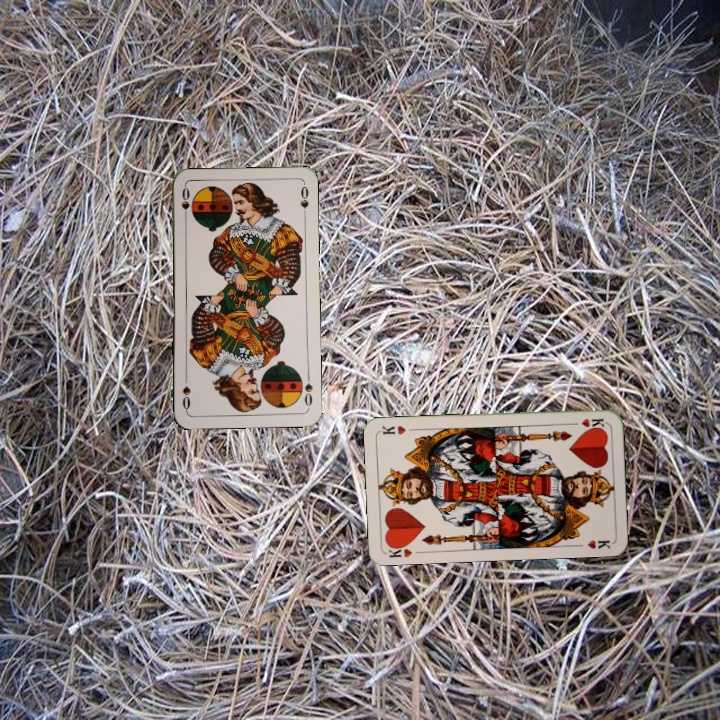HK: (567, 415, 607, 432), (383, 540, 414, 560)
SO: (178, 184, 192, 224), (301, 370, 315, 410)
